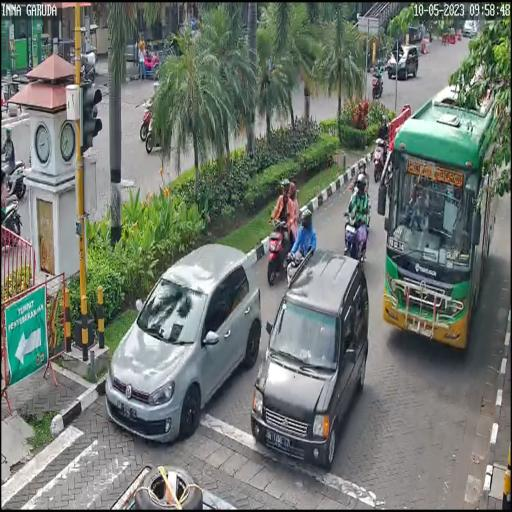mobil: (98, 240, 259, 447), (381, 80, 498, 358), (248, 244, 372, 470)
motor: (266, 206, 290, 282), (342, 201, 370, 262), (370, 135, 388, 185)
